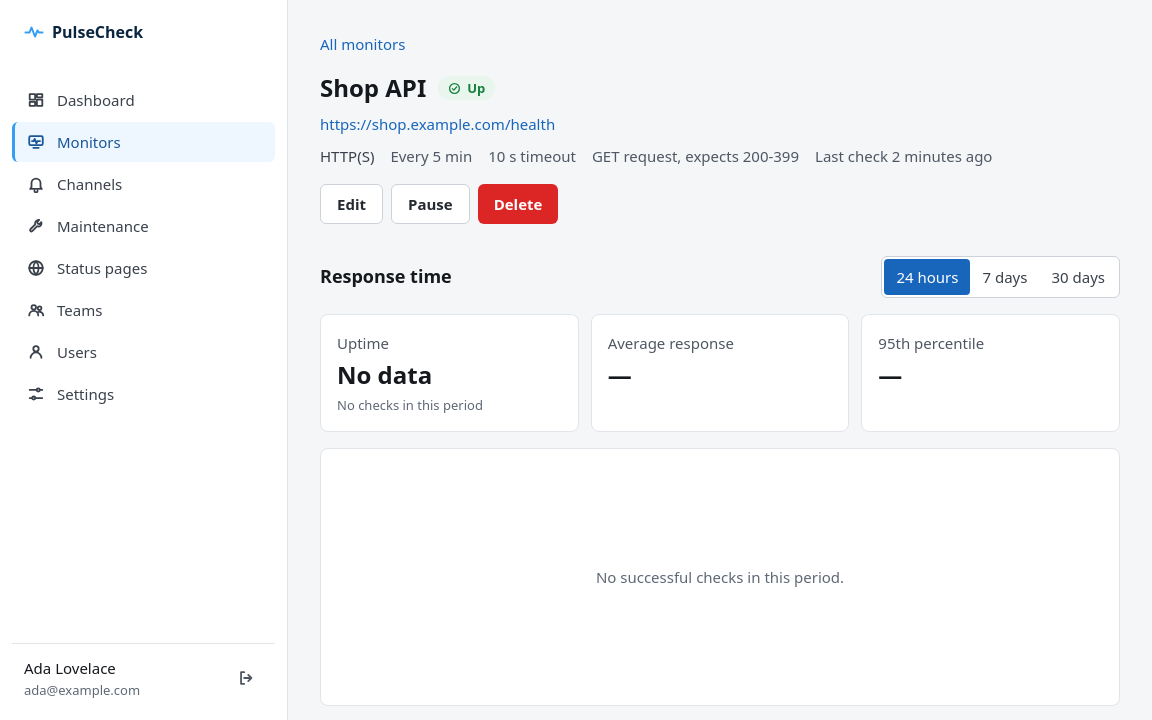
it: MonitorDetailPage › asks for confirmation before deleting
Click the button "Delete" at (518, 204), box [478, 184, 558, 224]
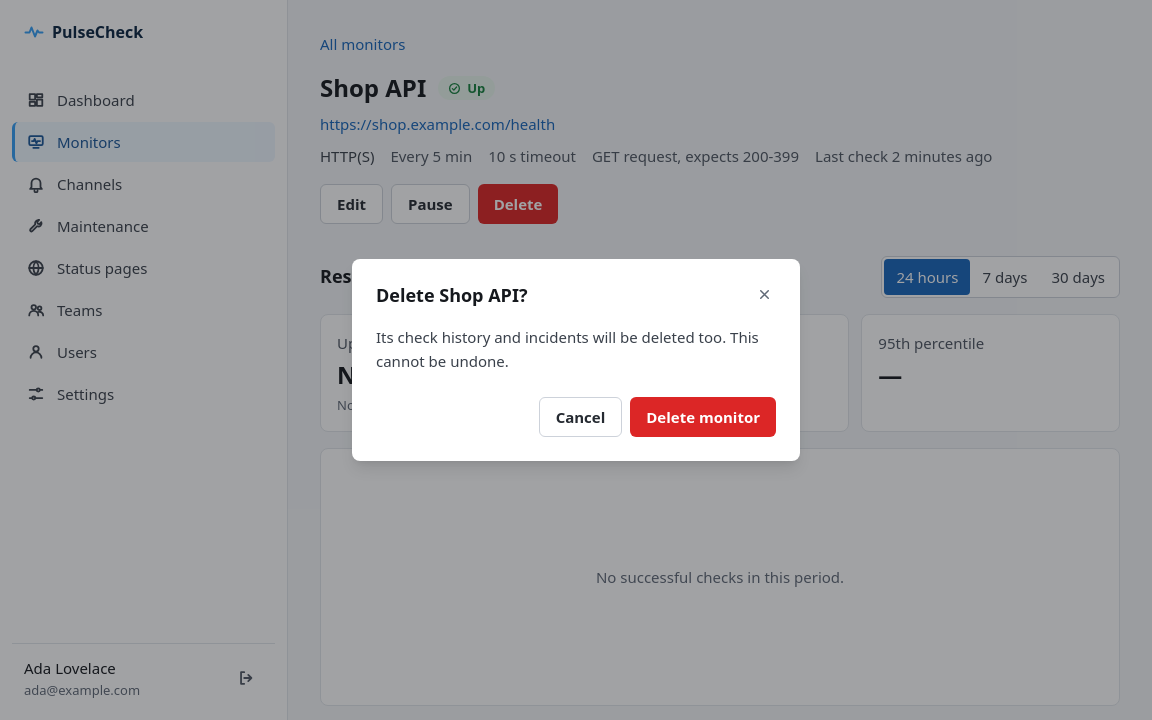
Click the button "Cancel" at (580, 417), box [539, 397, 622, 437]
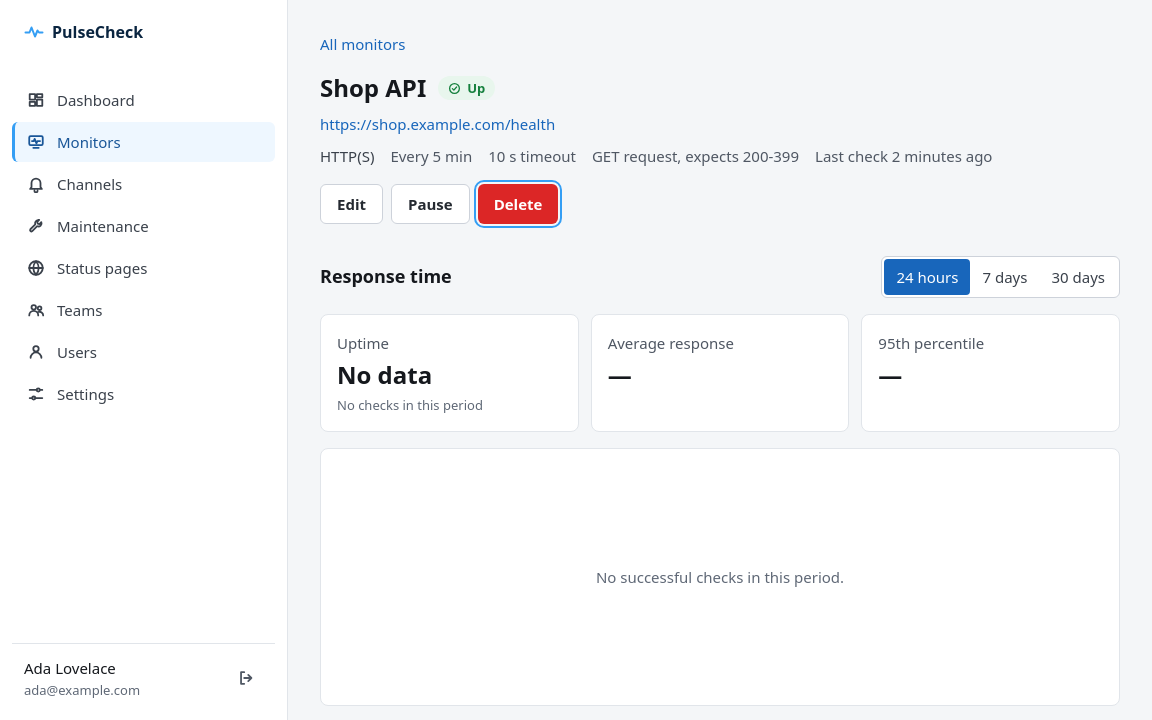
Expected: the dialog is gone
Click the button "Delete" at (518, 204), box [478, 184, 558, 224]
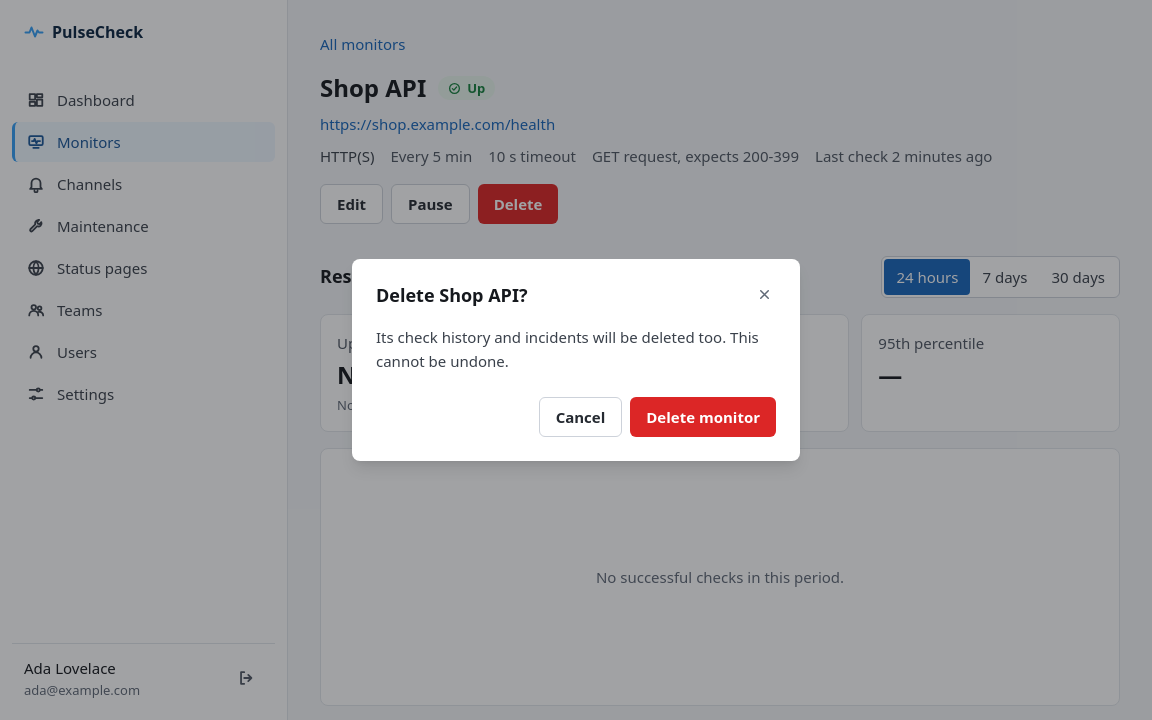
Click the button "Delete monitor" at (703, 417), box [630, 397, 776, 437]
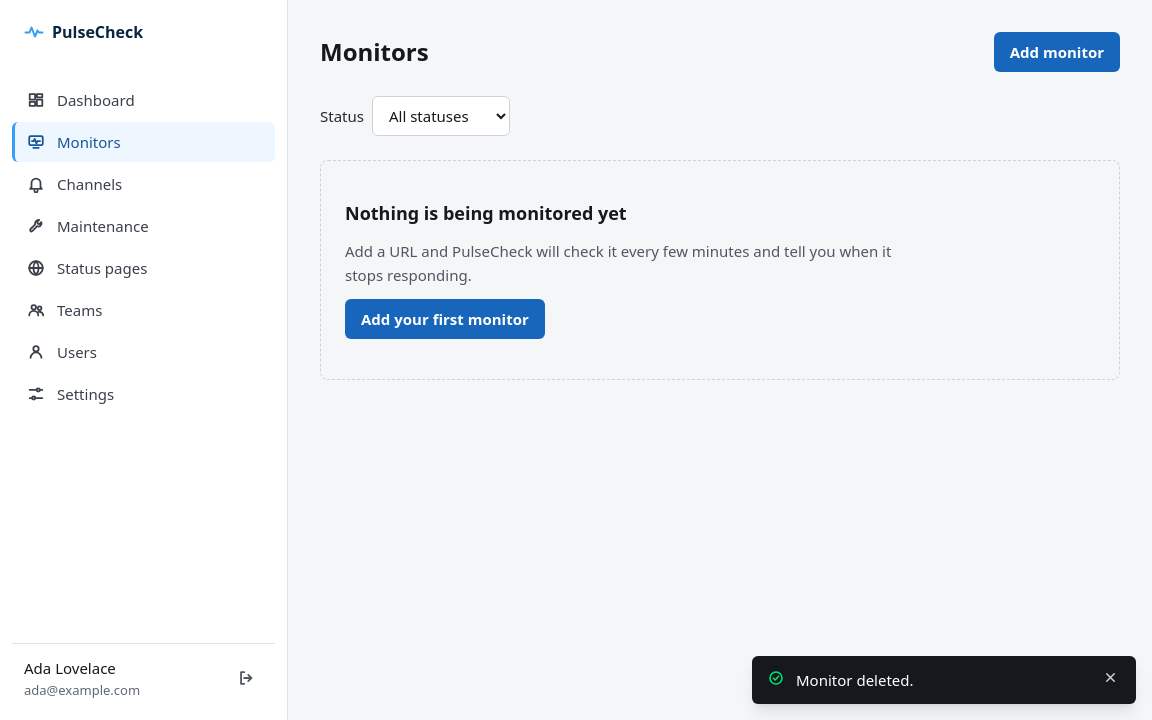
Expected: the text "Monitor deleted." is shown, [796, 670, 914, 690]
